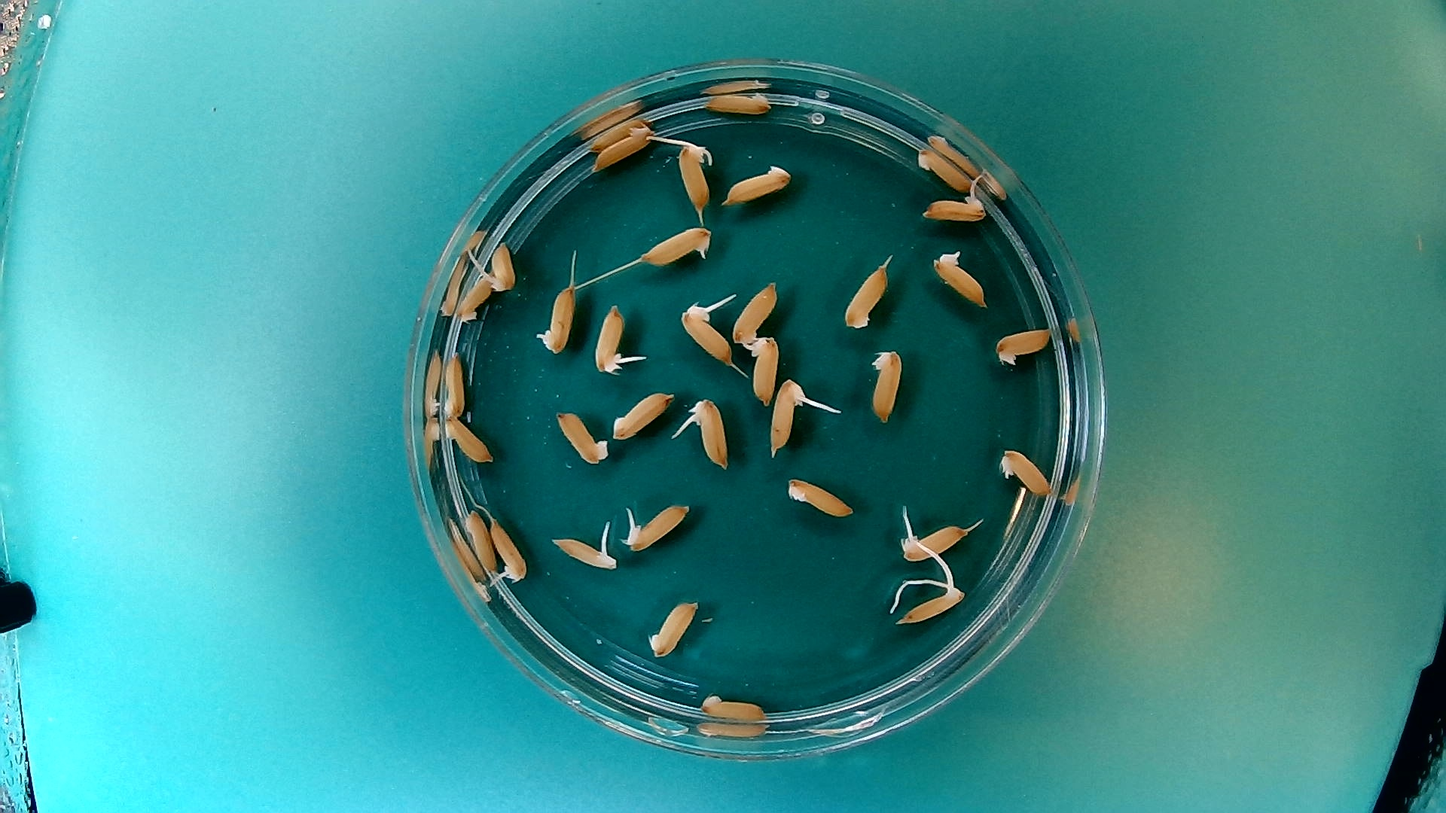no: (840, 255, 895, 330), (609, 385, 677, 441), (645, 595, 704, 659), (729, 277, 779, 349), (554, 407, 612, 466), (721, 161, 795, 207), (782, 473, 856, 519), (866, 343, 905, 427), (914, 145, 981, 193), (593, 126, 655, 173), (454, 265, 501, 325), (443, 416, 497, 467), (462, 505, 499, 579), (589, 111, 648, 157), (993, 324, 1055, 367), (697, 690, 770, 724), (702, 88, 773, 117)
yes: (618, 498, 693, 553), (682, 392, 731, 472), (929, 246, 990, 308), (637, 222, 715, 268), (676, 133, 723, 209), (679, 305, 735, 365), (995, 445, 1056, 500), (765, 375, 808, 453), (892, 583, 966, 628), (534, 282, 577, 358), (465, 233, 516, 293), (896, 520, 970, 561), (593, 300, 632, 377), (488, 516, 530, 586), (549, 531, 620, 571), (745, 331, 779, 410), (920, 191, 987, 223), (440, 346, 466, 419)
